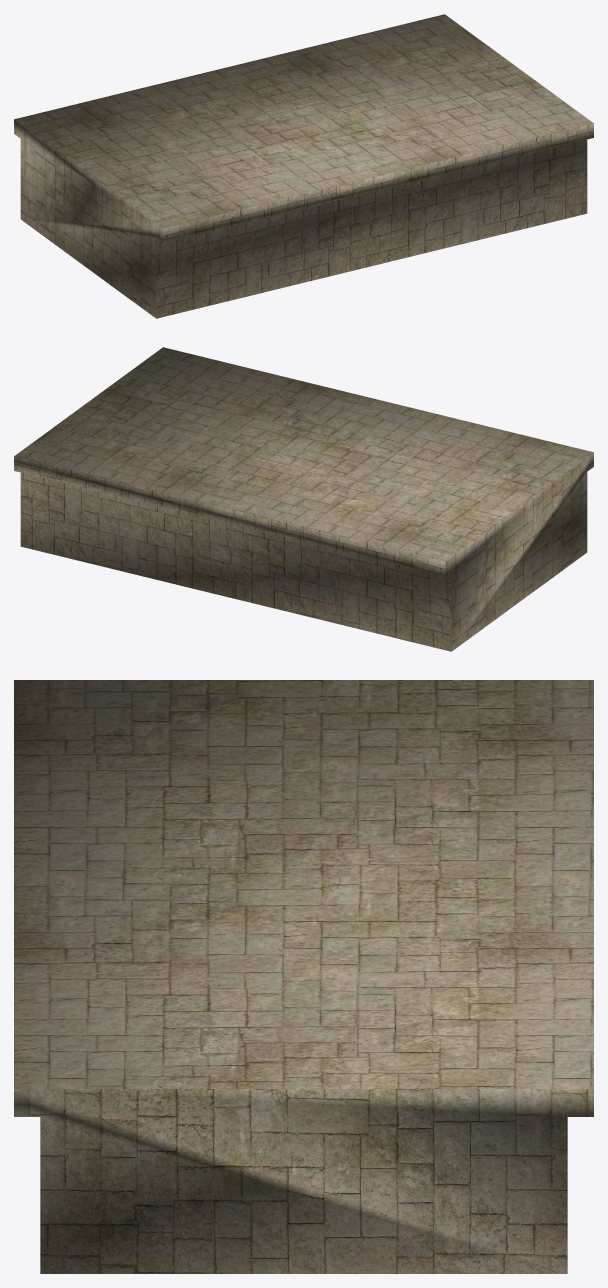
Rendered from platform2.fbx.
3 views of the same model, one above another, from view 1: azimuth 30°, elevation 25°; view 2: azimuth 150°, elevation 25°; view 3: azimuth 270°, elevation 25° (orthographic). The views are drawn at different scales.
Visible parts, largest first — view 1: platform2; view 2: platform2; view 3: platform2.
Boxes of the visible parts, bbox=[...] form: platform2: bbox=[14, 14, 593, 318]; platform2: bbox=[14, 347, 593, 651]; platform2: bbox=[14, 680, 593, 1273].
Size of the model in its own units: 6.67 by 1.41 by 4.
